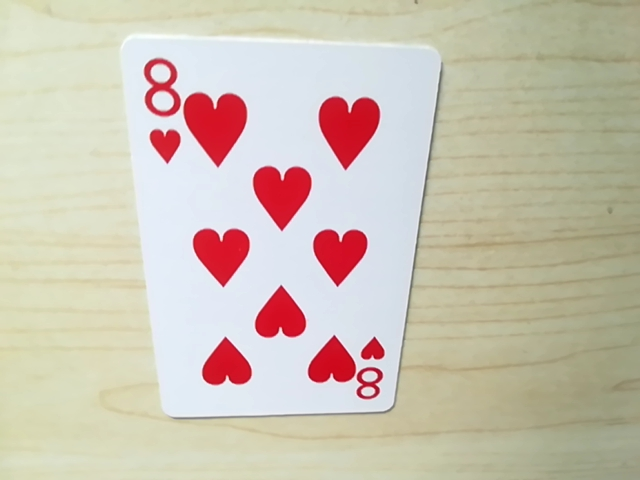hx 8: (133, 52, 185, 126), (351, 355, 390, 406)
